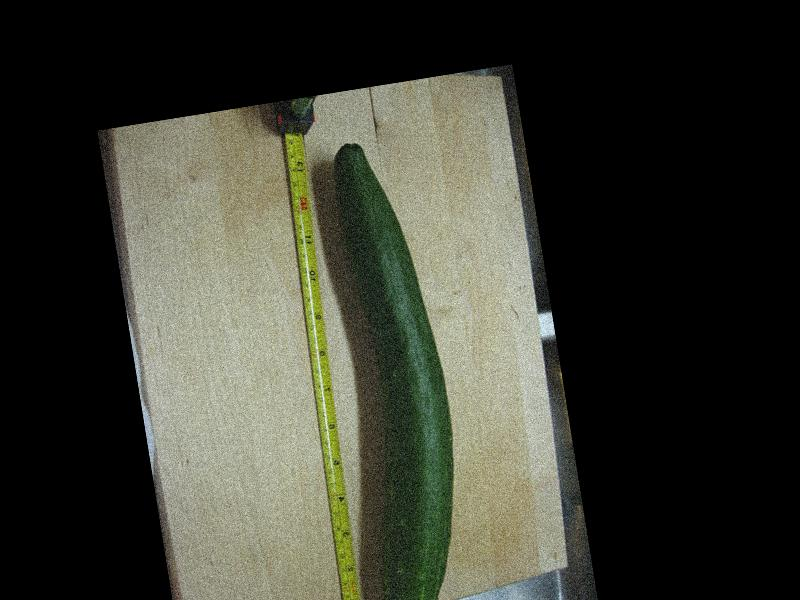Cucumber: (312, 134, 482, 600)
